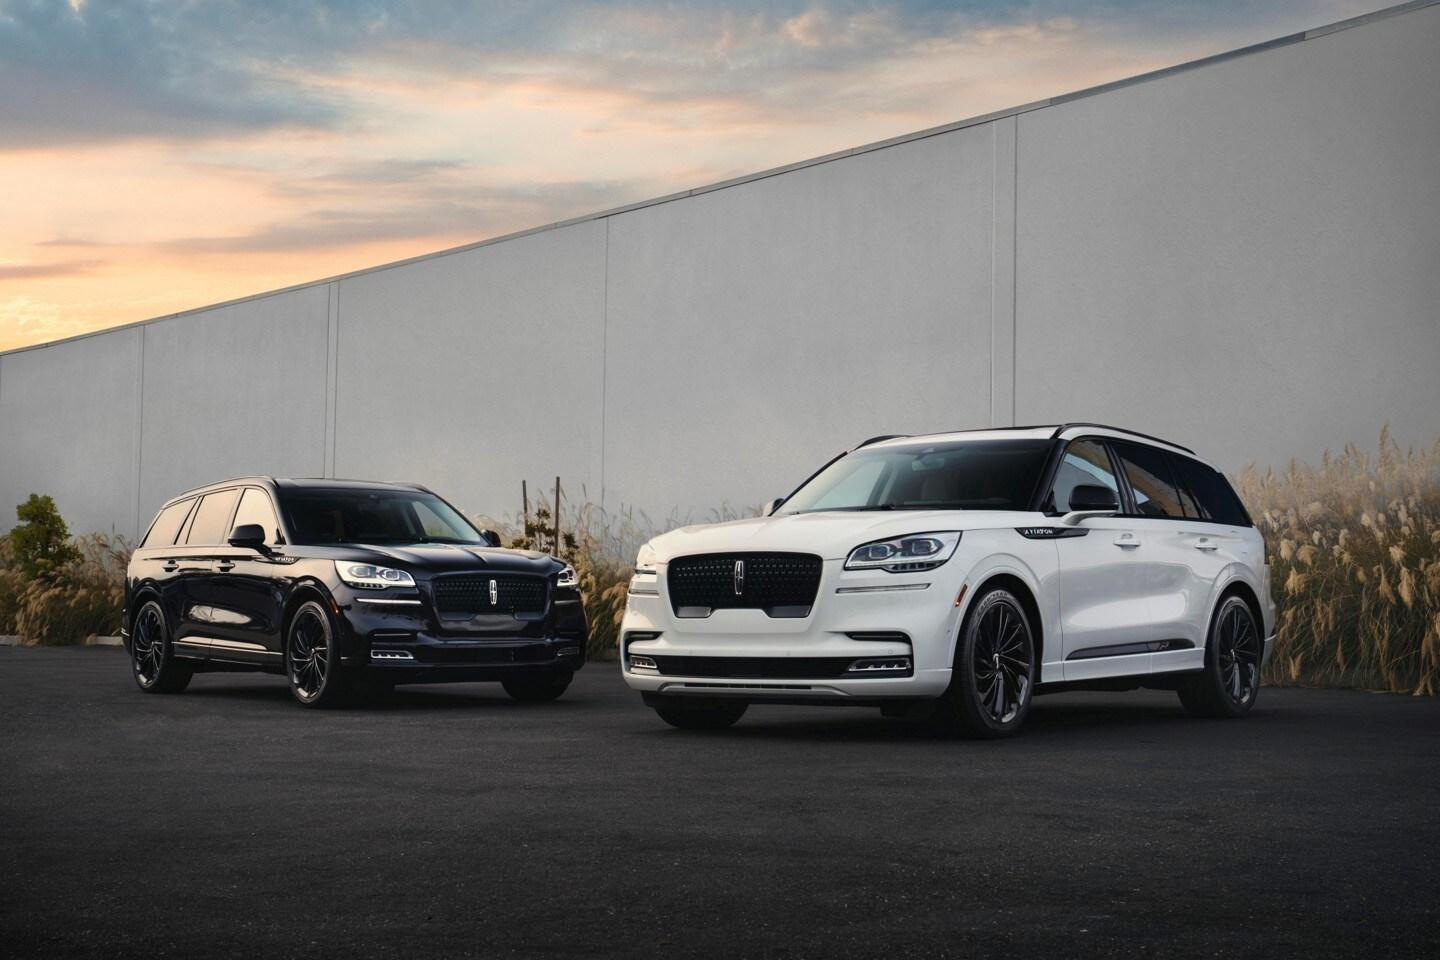lincoln: (731, 558, 750, 600), (484, 577, 502, 610)
